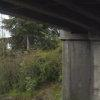Bridge: (10, 4, 95, 75)
